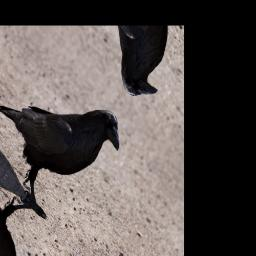Crow: (0, 39, 132, 235)
